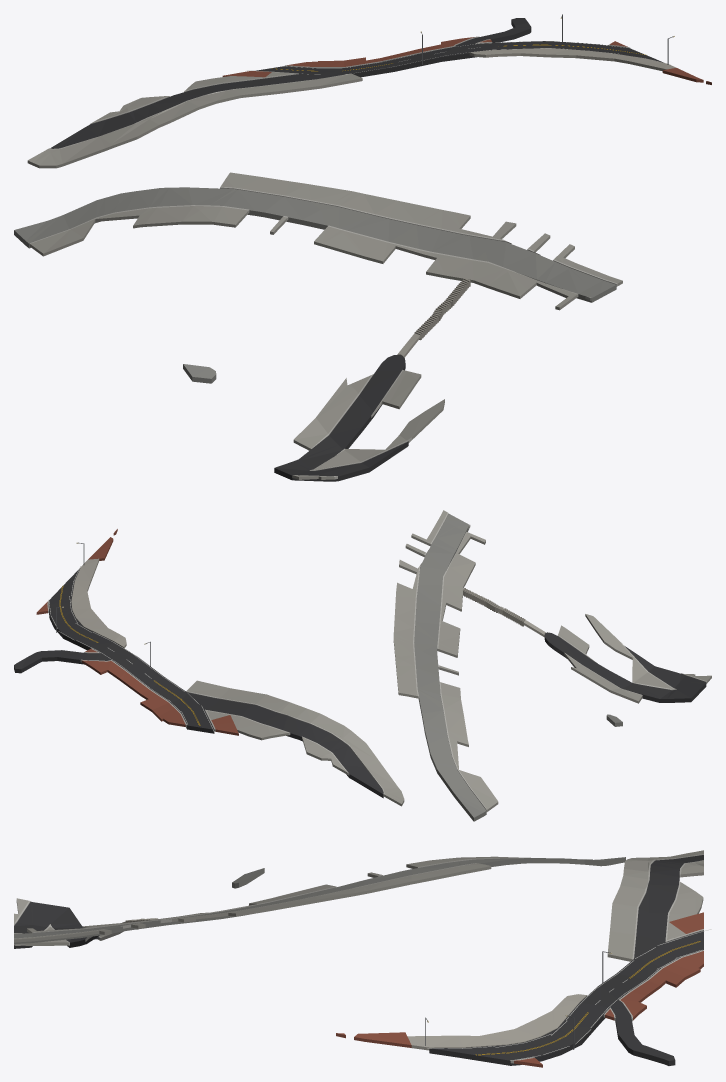
The picture shows the model from 3 angles, top to bottom: view 1: azimuth 30°, elevation 25°; view 2: azimuth 150°, elevation 25°; view 3: azimuth 270°, elevation 25°; orthographic projection. The views are drawn at different scales.
Size of the model in its own units: 148 by 44.7 by 148.
